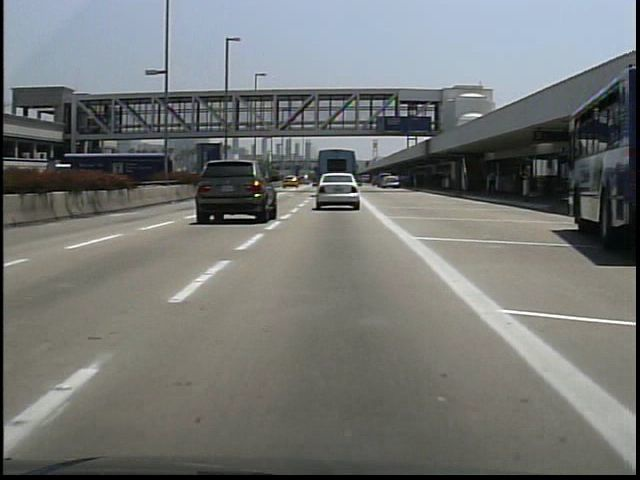person: (482, 166, 503, 203)
